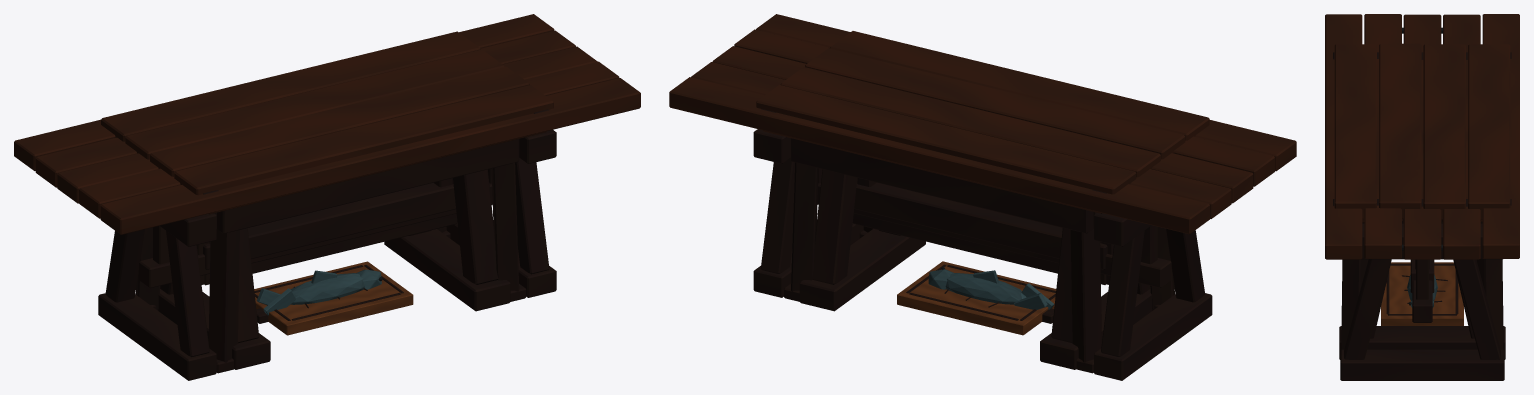
Rendered from medieval_table_kit.glb.
The picture shows the model from 3 angles, left to right: view 1: azimuth 30°, elevation 25°; view 2: azimuth 150°, elevation 25°; view 3: azimuth 270°, elevation 25°; orthographic projection. The views are drawn at different scales.
Parts seen in each view (by area): view 1: WorkTableFrame, LongTableFrame, CommonTableFrame, CuttingBoard, Herring; view 2: WorkTableFrame, LongTableFrame, CommonTableFrame, CuttingBoard, Herring; view 3: WorkTableFrame, LongTableFrame, CuttingBoard, CommonTableFrame, Herring.
Boxes of the visible parts, left/top/right/bottom form: WorkTableFrame: left=101, top=31, right=553, bottom=369; LongTableFrame: left=14, top=14, right=640, bottom=380; CommonTableFrame: left=135, top=131, right=546, bottom=373; CuttingBoard: left=254, top=261, right=413, bottom=335; Herring: left=256, top=269, right=382, bottom=315; WorkTableFrame: left=756, top=31, right=1209, bottom=369; LongTableFrame: left=669, top=14, right=1296, bottom=380; CommonTableFrame: left=763, top=130, right=1174, bottom=373; CuttingBoard: left=897, top=261, right=1056, bottom=335; Herring: left=928, top=267, right=1054, bottom=309; WorkTableFrame: left=1333, top=43, right=1511, bottom=359; LongTableFrame: left=1325, top=14, right=1519, bottom=380; CuttingBoard: left=1381, top=262, right=1463, bottom=325; CommonTableFrame: left=1341, top=219, right=1503, bottom=349; Herring: left=1407, top=275, right=1437, bottom=307.
Bounding box in the file's own units: 2.3 × 0.8239 × 0.82.
5 materials, 5 textured.
